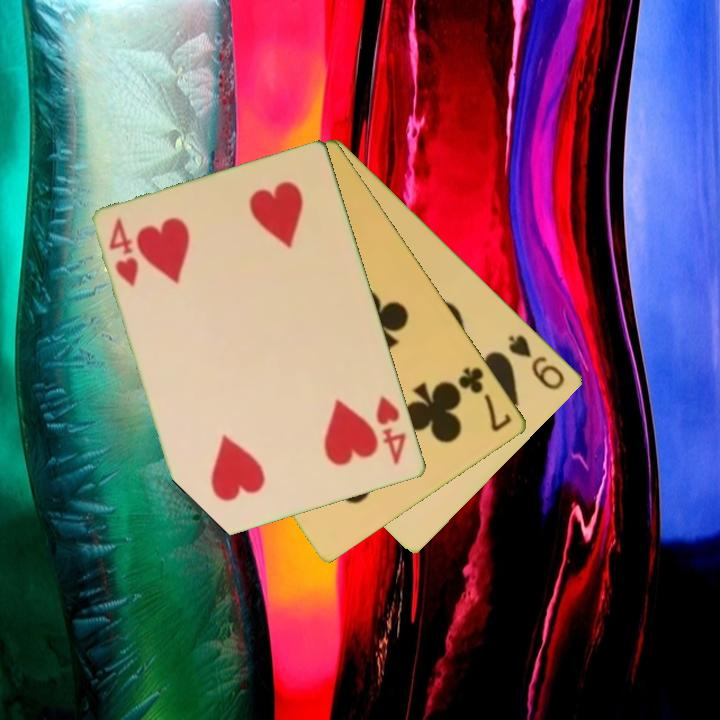4h: (373, 392, 410, 468), (106, 214, 142, 290)
7c: (455, 363, 516, 435)
9s: (505, 331, 569, 393)
